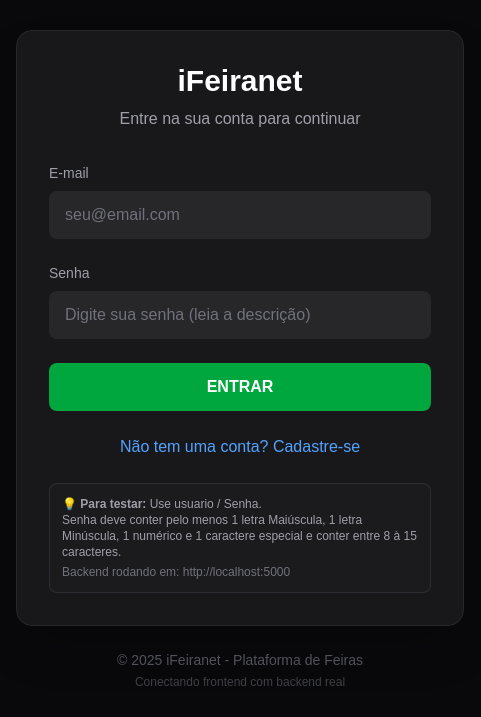
Login Component › Test 5: Validate invalid email
Type "email-invalido" into the field with placeholder "seu@email.com" at (240,215), box [49,191,431,239]
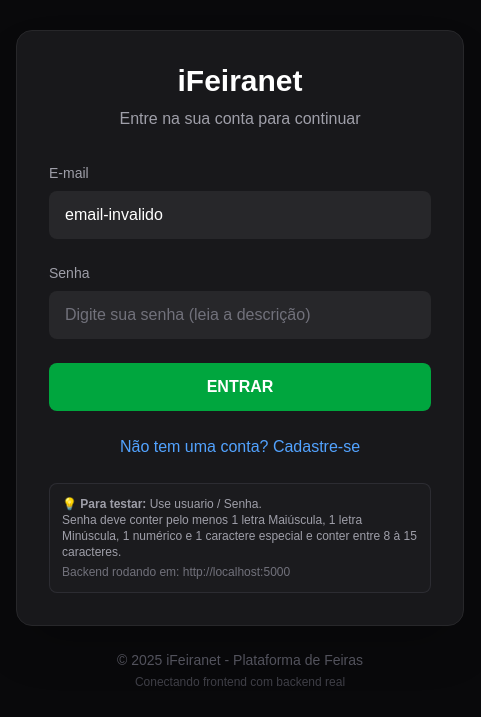
Type "Senha123!" into the password field with placeholder "Digite sua senha (leia a descrição)" at (240,315), box [49,291,431,339]
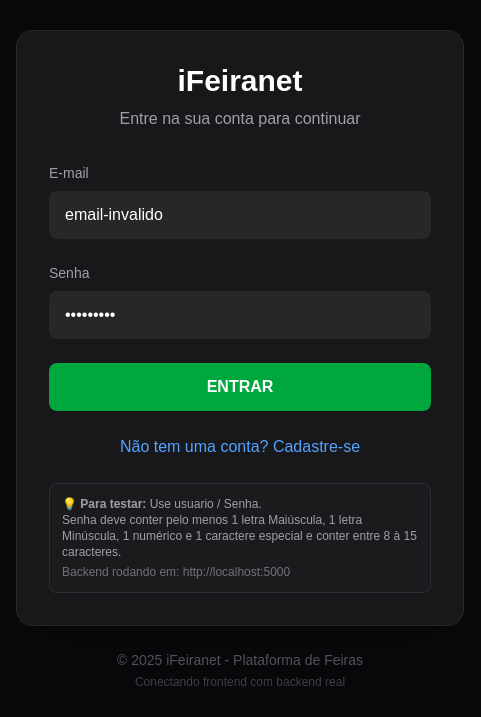
Click the button "ENTRAR" at (240,387), box [49,363,431,411]
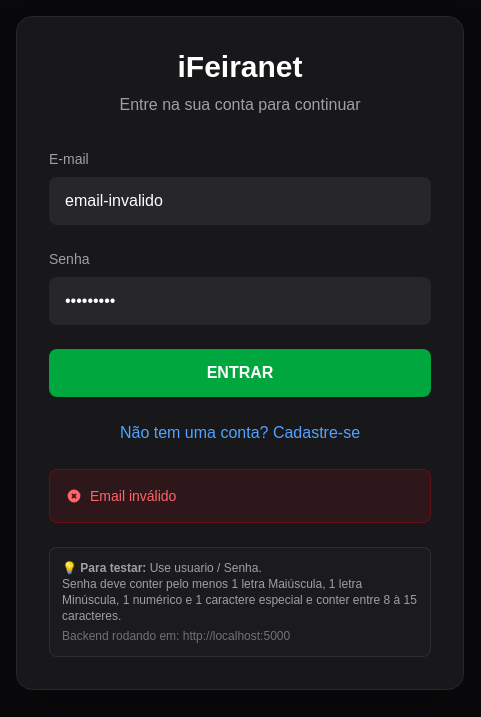
Expected: the text "Email inválido" is shown, [66,488,176,504]
